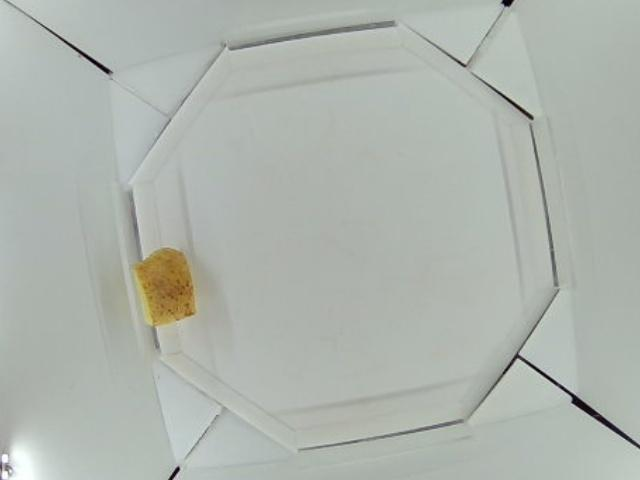Potato: (136, 247, 198, 326)
